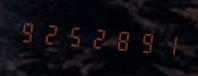eight: (109, 21, 131, 58)
five: (63, 16, 85, 54)
nine: (17, 12, 39, 50), (132, 23, 154, 60)
one: (155, 25, 177, 62)
two: (40, 14, 62, 52), (86, 18, 108, 56)
